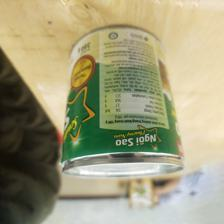NSPN_Lon: (61, 24, 183, 180)
